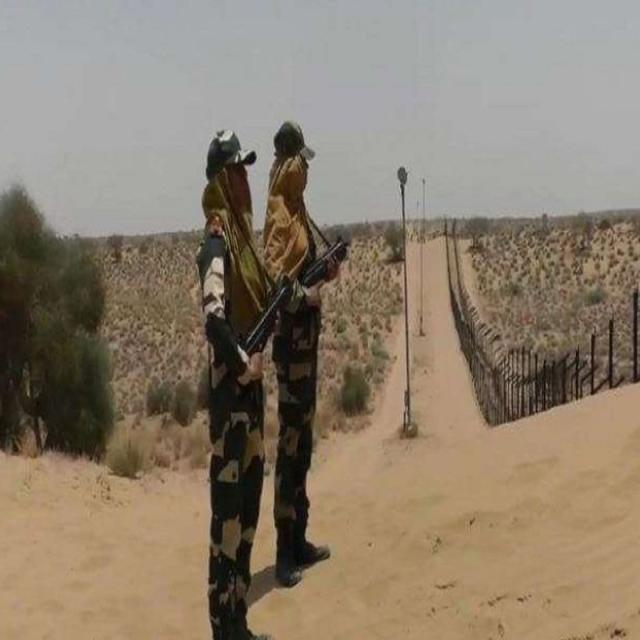soldier: (197, 133, 289, 639), (262, 122, 349, 585)
